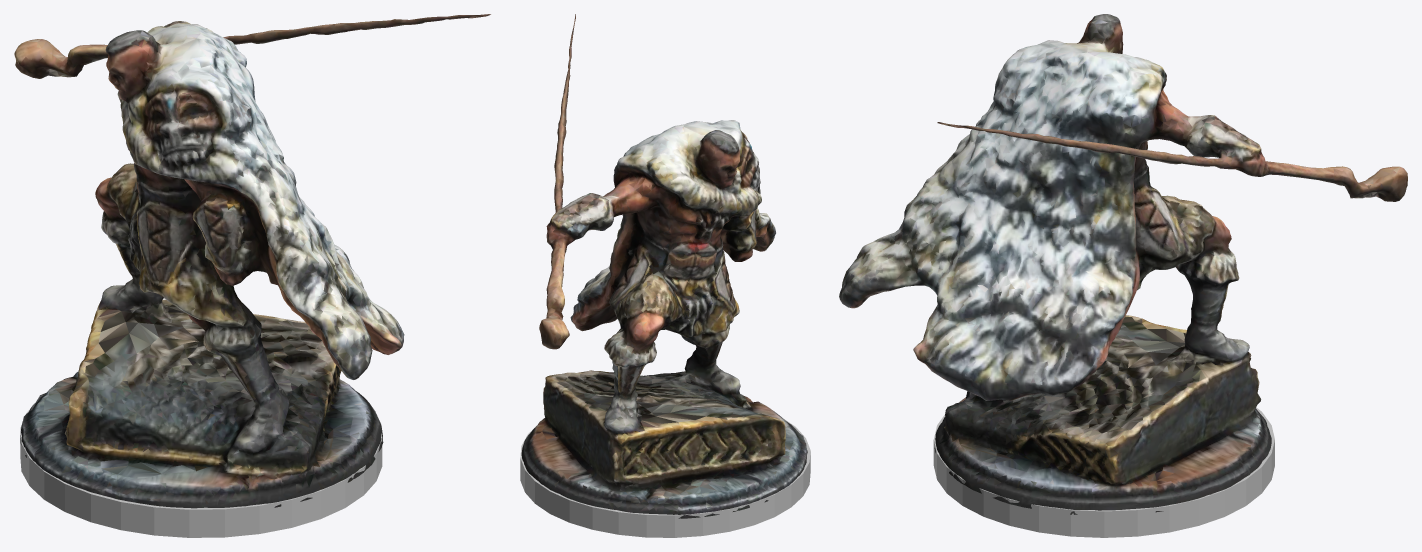
3 views of the same model, side by side, from view 1: azimuth 30°, elevation 25°; view 2: azimuth 150°, elevation 25°; view 3: azimuth 270°, elevation 25° (orthographic). The views are drawn at different scales.
Visible parts, largest first — view 1: Mbaku (1), default; view 2: Mbaku (1), default; view 3: Mbaku (1), default.
Boxes of the visible parts, x1,y1,x2,y2 form: Mbaku (1): (14, 14, 490, 508); default: (20, 409, 382, 537); Mbaku (1): (521, 14, 807, 518); default: (520, 418, 810, 537); Mbaku (1): (839, 14, 1407, 514); default: (933, 399, 1274, 537).
Size of the model in its own units: 1.57 by 1.94 by 2.29.
Materials: 2 (1 with a texture image).
